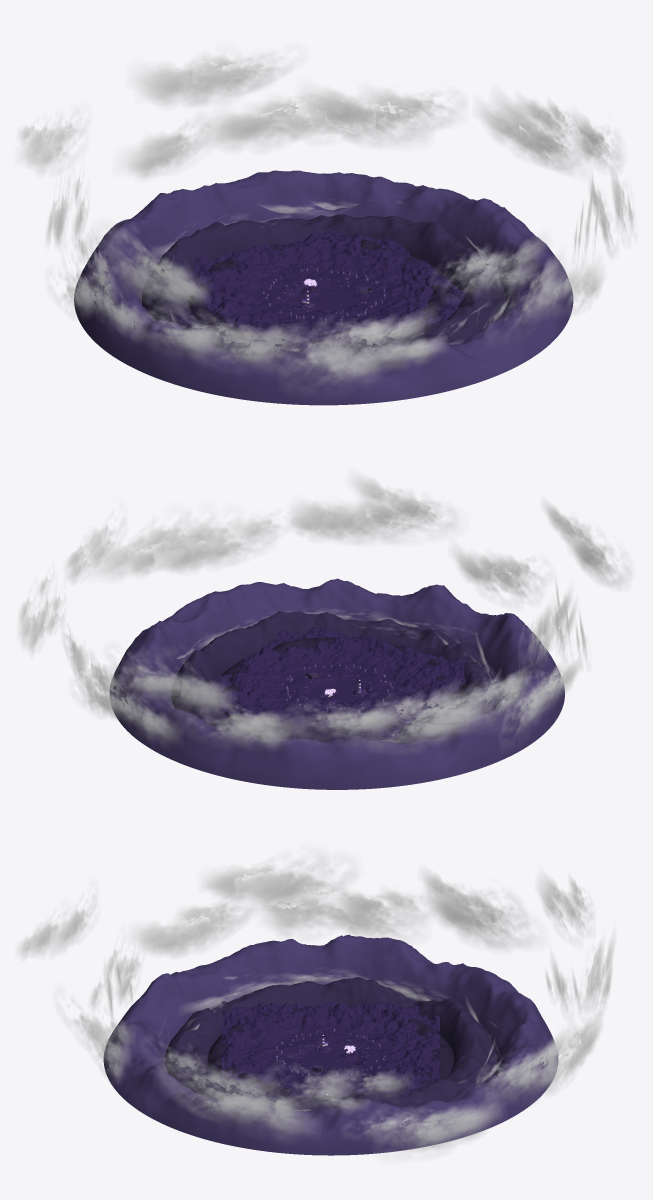
File: about-room.glb
3 views of the same model, one above another, from view 1: azimuth 30°, elevation 25°; view 2: azimuth 150°, elevation 25°; view 3: azimuth 270°, elevation 25° (orthographic). The views are drawn at different scales.
Parts seen in each view (by area): view 1: Mountains_Far, Terrain, Mountains_Mid, Mountains_Near, Cloud_023, Cloud_038, Cloud_016, Cloud_082, Cloud_030, Cloud_075, Cloud_072, Cloud_078 (+38 smaller); view 2: Mountains_Far, Terrain, Mountains_Mid, Mountains_Near, Cloud_033, Cloud_046, Cloud_038, Cloud_108, Cloud_103, Cloud_058, Cloud_118, Cloud_104 (+39 smaller); view 3: Mountains_Far, Terrain, Mountains_Mid, Mountains_Near, Cloud_073, Cloud_118, Cloud_011, Cloud_055, Cloud_077, Cloud_115, Cloud_060, Cloud_002 (+31 smaller).
Part boxes in pixels (x1=…): Mountains_Far: x1=74, y1=170, x2=573, y2=405; Terrain: x1=182, y1=230, x2=467, y2=350; Mountains_Mid: x1=141, y1=214, x2=505, y2=367; Mountains_Near: x1=188, y1=237, x2=454, y2=351; Cloud_023: x1=199, y1=102, x2=310, y2=149; Cloud_038: x1=117, y1=108, x2=226, y2=176; Cloud_016: x1=301, y1=84, x2=423, y2=134; Cloud_082: x1=288, y1=345, x2=393, y2=385; Cloud_030: x1=137, y1=47, x2=228, y2=105; Cloud_075: x1=125, y1=308, x2=227, y2=358; Cloud_072: x1=115, y1=235, x2=206, y2=304; Cloud_078: x1=204, y1=322, x2=305, y2=356; Mountains_Far: x1=109, y1=578, x2=564, y2=789; Terrain: x1=210, y1=626, x2=485, y2=739; Mountains_Mid: x1=171, y1=611, x2=503, y2=743; Mountains_Near: x1=221, y1=636, x2=460, y2=737; Cloud_033: x1=141, y1=666, x2=227, y2=715; Cloud_046: x1=397, y1=702, x2=492, y2=732; Cloud_038: x1=212, y1=705, x2=303, y2=744; Cloud_108: x1=159, y1=516, x2=264, y2=570; Cloud_103: x1=315, y1=503, x2=380, y2=536; Cloud_058: x1=502, y1=672, x2=567, y2=719; Cloud_118: x1=90, y1=508, x2=175, y2=578; Cloud_104: x1=333, y1=501, x2=423, y2=534; Mountains_Far: x1=103, y1=935, x2=558, y2=1155; Terrain: x1=222, y1=1001, x2=439, y2=1099; Mountains_Mid: x1=165, y1=977, x2=496, y2=1111; Mountains_Near: x1=208, y1=1006, x2=454, y2=1100; Cloud_073: x1=241, y1=855, x2=347, y2=907; Cloud_118: x1=211, y1=1079, x2=316, y2=1140; Cloud_011: x1=384, y1=1101, x2=494, y2=1148; Cloud_055: x1=330, y1=903, x2=421, y2=936; Cloud_077: x1=157, y1=902, x2=237, y2=954; Cloud_115: x1=180, y1=1075, x2=271, y2=1123; Cloud_060: x1=260, y1=901, x2=324, y2=936; Cloud_002: x1=274, y1=1067, x2=356, y2=1099.
Size of the model in its own units: 612 by 192 by 660.
118 materials, 3 textured.
